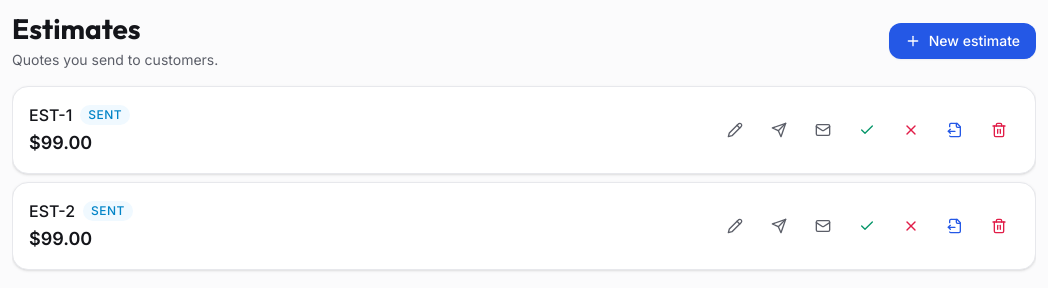
Test: EstimatesPage › disables only the acting estimate's Convert button while it is in flight
Expected: the text "EST-1" is shown, [29, 103, 72, 127]
Click the button titled "Convert to invoice" in the row of "EST-1" at (955,130), box [935, 114, 975, 146]
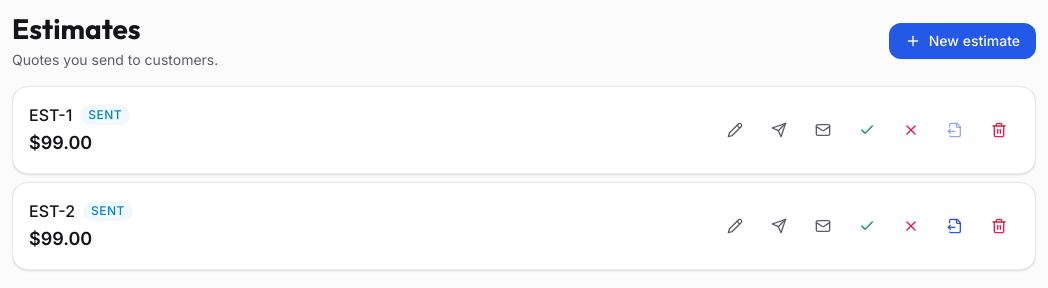
Expected: the button titled "Convert to invoice" in the row of "EST-2" is enabled, [935, 210, 975, 242]
Expected: the button titled "Convert to invoice" in the row of "EST-1" is disabled, [935, 114, 975, 146]
